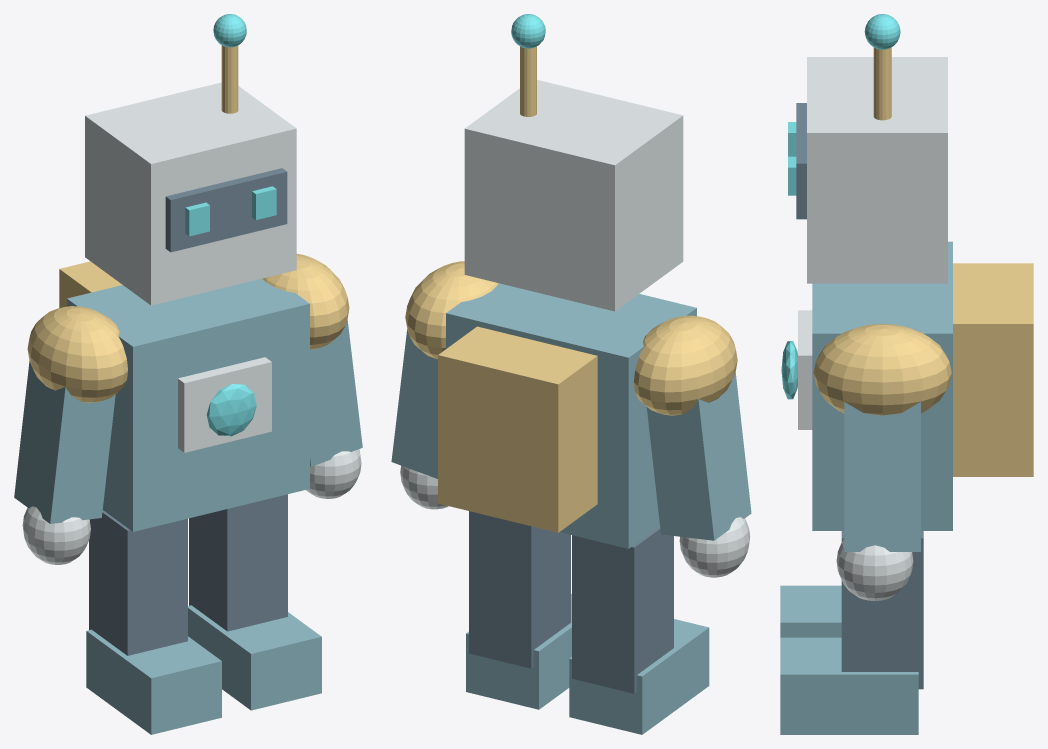
3 views of the same model, side by side, from view 1: azimuth 30°, elevation 25°; view 2: azimuth 150°, elevation 25°; view 3: azimuth 270°, elevation 25° (orthographic). The views are drawn at different scales.
Parts seen in each view (by area): view 1: Torso, Cabeça, Jambe, Jambe.001, Bras.001, Botte.001, Botte, Épaule, Visor, Bras, Painel peitoral, Épaule.001 (+8 smaller); view 2: Cabeça, Sac à dos, Torso, Jambe, Jambe.001, Bras.001, Épaule, Botte.001, Botte, Bras, Épaule.001, Main (+3 smaller); view 3: Cabeça, Sac à dos, Torso, Botte, Bras, Épaule.001, Jambe.001, Main.001, Botte.001, Painel peitoral, Antena, Visor (+2 smaller).
Part boxes in pixels (x1=…): Torso: x1=67, y1=278, x2=309, y2=531; Cabeça: x1=85, y1=82, x2=296, y2=305; Jambe: x1=89, y1=510, x2=187, y2=655; Jambe.001: x1=189, y1=494, x2=287, y2=631; Bras.001: x1=14, y1=361, x2=115, y2=523; Botte.001: x1=86, y1=629, x2=221, y2=734; Botte: x1=188, y1=605, x2=321, y2=710; Épaule: x1=27, y1=306, x2=127, y2=402; Visor: x1=165, y1=168, x2=287, y2=252; Bras: x1=310, y1=319, x2=362, y2=466; Painel peitoral: x1=178, y1=357, x2=271, y2=452; Épaule.001: x1=262, y1=254, x2=349, y2=349; Cabeça: x1=464, y1=80, x2=683, y2=311; Sac à dos: x1=438, y1=326, x2=597, y2=532; Torso: x1=446, y1=283, x2=696, y2=548; Jambe: x1=572, y1=526, x2=673, y2=693; Jambe.001: x1=469, y1=511, x2=570, y2=668; Bras.001: x1=646, y1=372, x2=751, y2=540; Épaule: x1=634, y1=315, x2=737, y2=415; Botte.001: x1=569, y1=619, x2=709, y2=734; Botte: x1=466, y1=594, x2=571, y2=709; Bras: x1=391, y1=329, x2=437, y2=478; Épaule.001: x1=405, y1=261, x2=498, y2=359; Main: x1=679, y1=517, x2=750, y2=577; Cabeça: x1=807, y1=57, x2=947, y2=283; Sac à dos: x1=953, y1=263, x2=1033, y2=476; Torso: x1=812, y1=241, x2=952, y2=530; Botte: x1=780, y1=637, x2=918, y2=734; Bras: x1=844, y1=402, x2=920, y2=551; Épaule.001: x1=813, y1=324, x2=951, y2=415; Jambe.001: x1=841, y1=531, x2=923, y2=689; Main.001: x1=836, y1=538, x2=913, y2=600; Botte.001: x1=780, y1=585, x2=841, y2=637; Painel peitoral: x1=798, y1=310, x2=812, y2=429; Antena: x1=873, y1=47, x2=891, y2=120; Visor: x1=796, y1=103, x2=806, y2=219.
Bounding box in the file's own units: 1.58 × 3 × 0.99.
